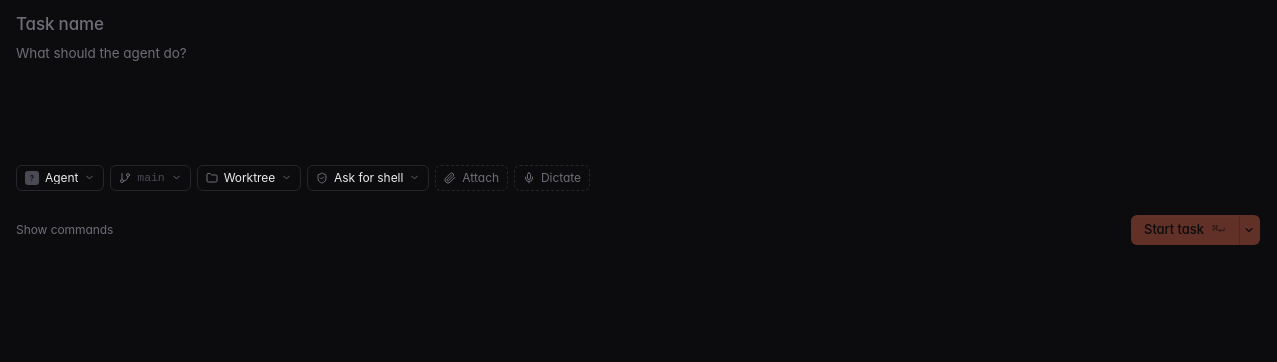
Test: NewTaskForm › surfaces backend errors inline without throwing
The image size is (1277, 362).
Click the button "Show commands" at (65, 230), box [16,221,113,238]
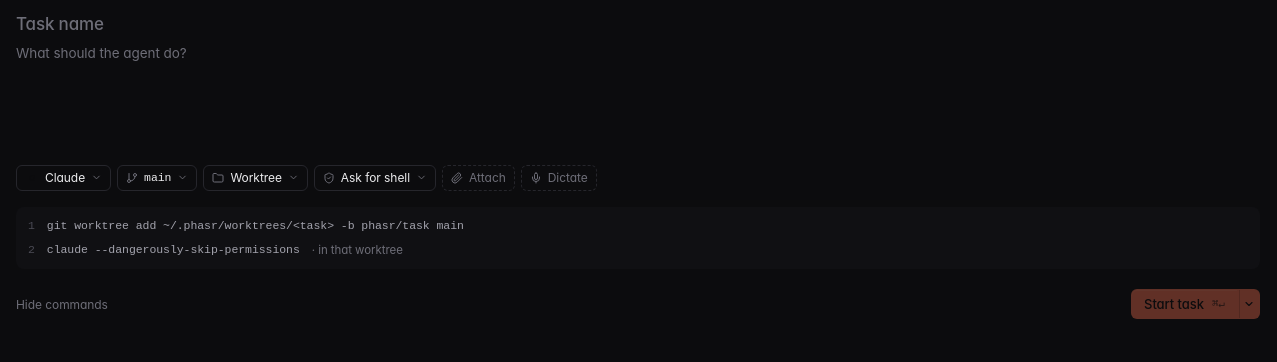
Expected: the text "claude --dangerously-skip-permissions" is shown, [47,241,300,259]
Type "broken task" into the field labelled "Task name" at (638, 24), box [16,12,1260,37]
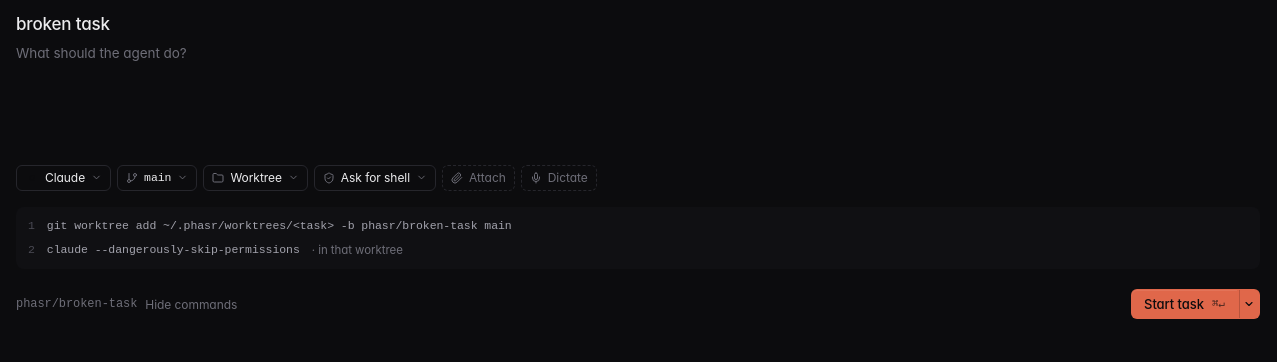
Click the button "Start task ⌘↵" at (1184, 304), box [1131,289,1238,319]
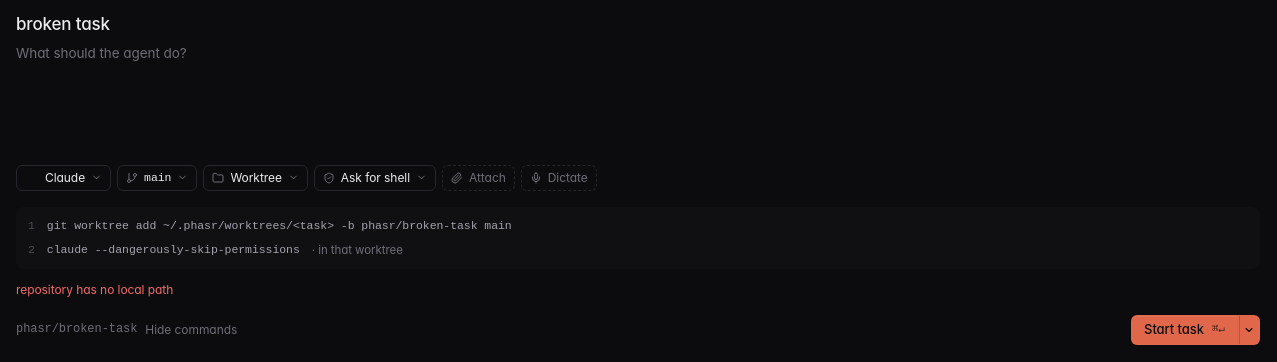
Expected: the text "repository has no local path" is shown, [16,282,173,297]
